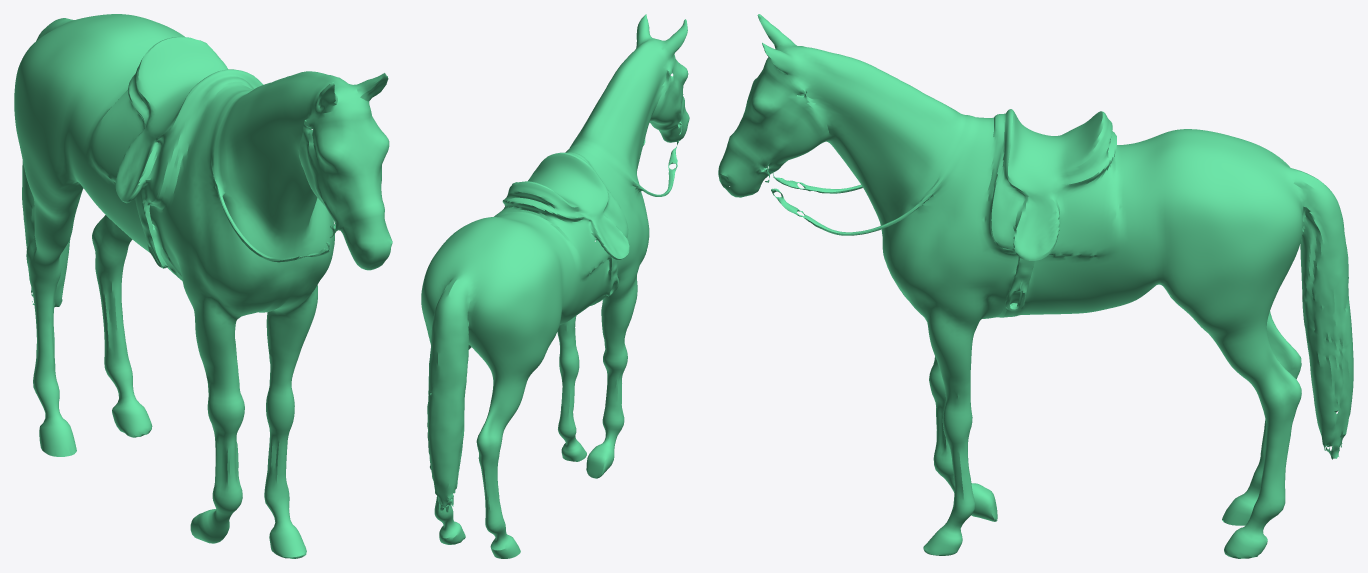
The model's file is horse_diagram.glb.
The picture shows the model from 3 angles, left to right: view 1: azimuth 30°, elevation 25°; view 2: azimuth 150°, elevation 25°; view 3: azimuth 270°, elevation 25°; orthographic projection. The views are drawn at different scales.
Parts seen in each view (by area): view 1: Hip, Shoulder, Neck, FrontR, Head, FrontL, HindR, Back, HindL, FetlockL, HindFetlockR, Tail (+2 smaller); view 2: Hip, Neck, Tail, Shoulder, HindR, FrontR, Back, FrontL, Head, FetlockR, FetlockL, HindFetlockR (+2 smaller); view 3: Hip, Neck, Shoulder, FrontL, Tail, Back, HindL, Head, HindR, FrontR, FetlockL, HindFetlockL (+2 smaller).
Boxes of the visible parts, <box> form: Hip: <box>14,14,227,240</box>; Shoulder: <box>116,69,334,262</box>; Neck: <box>215,71,388,243</box>; FrontR: <box>160,236,293,514</box>; Head: <box>303,93,392,270</box>; FrontL: <box>264,225,334,497</box>; HindR: <box>26,183,83,416</box>; Back: <box>113,70,215,273</box>; HindL: <box>92,215,133,400</box>; FetlockL: <box>264,491,306,558</box>; HindFetlockR: <box>39,410,76,456</box>; Tail: <box>22,26,70,307</box>; Hip: <box>421,181,594,368</box>; Neck: <box>565,14,687,179</box>; Tail: <box>427,293,468,512</box>; Shoulder: <box>528,138,678,266</box>; HindR: <box>476,353,545,540</box>; FrontR: <box>591,227,649,432</box>; Back: <box>536,177,620,317</box>; FrontL: <box>557,316,579,433</box>; Head: <box>649,54,689,142</box>; FetlockR: <box>586,428,619,478</box>; FetlockL: <box>558,426,586,461</box>; HindFetlockR: <box>490,534,520,558</box>; Hip: <box>1069,111,1320,317</box>; Neck: <box>757,14,972,230</box>; Shoulder: <box>771,109,1044,278</box>; FrontL: <box>882,232,1015,510</box>; Tail: <box>1300,181,1353,459</box>; Back: <box>999,130,1089,316</box>; HindL: <box>1181,306,1301,531</box>; Head: <box>718,48,817,197</box>; HindR: <box>1247,311,1301,495</box>; FrontR: <box>929,356,953,478</box>; FetlockL: <box>923,502,975,555</box>; HindFetlockL: <box>1224,521,1267,558</box>.
Size of the model in its own units: 0.5727 by 1.7 by 1.91.
